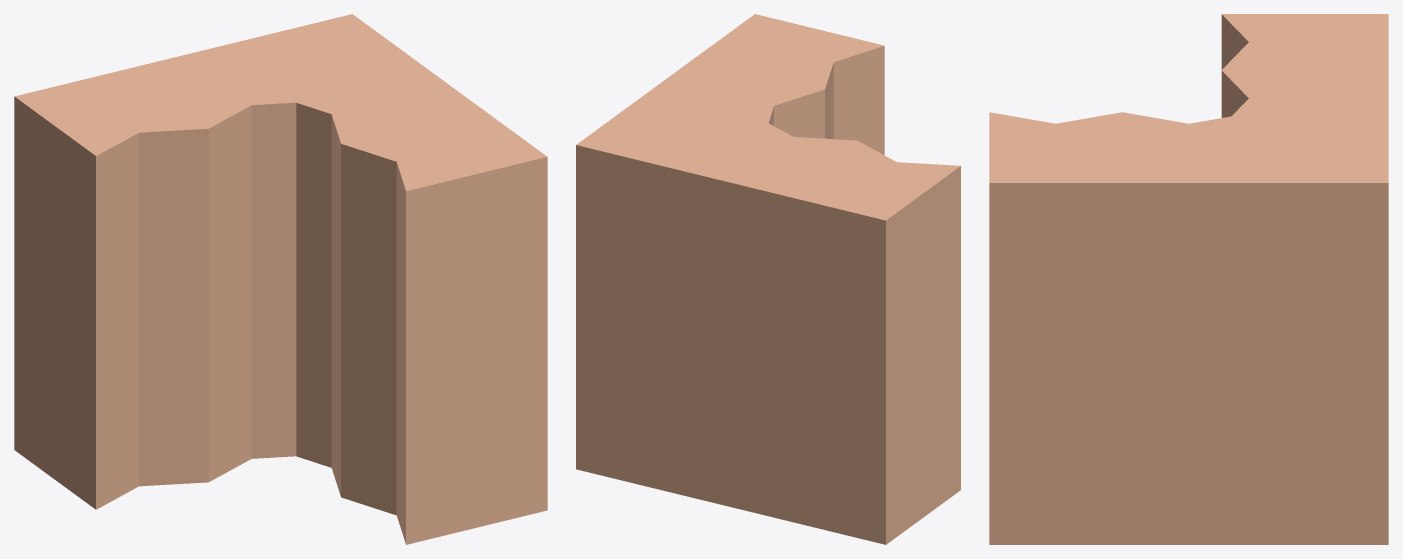
File: cliff_cornerInnerLarge_rock.gltf
The picture shows the model from 3 angles, left to right: view 1: azimuth 30°, elevation 25°; view 2: azimuth 150°, elevation 25°; view 3: azimuth 270°, elevation 25°; orthographic projection. The views are drawn at different scales.
Visible parts, largest first — view 1: cliff_cornerInnerLarge_rock; view 2: cliff_cornerInnerLarge_rock; view 3: cliff_cornerInnerLarge_rock.
Part boxes in pixels (x1,y1,x2,y2): cliff_cornerInnerLarge_rock: (14,14,547,544); cliff_cornerInnerLarge_rock: (576,14,960,544); cliff_cornerInnerLarge_rock: (989,14,1388,544).
Size of the model in its own units: 1 by 1 by 1.
